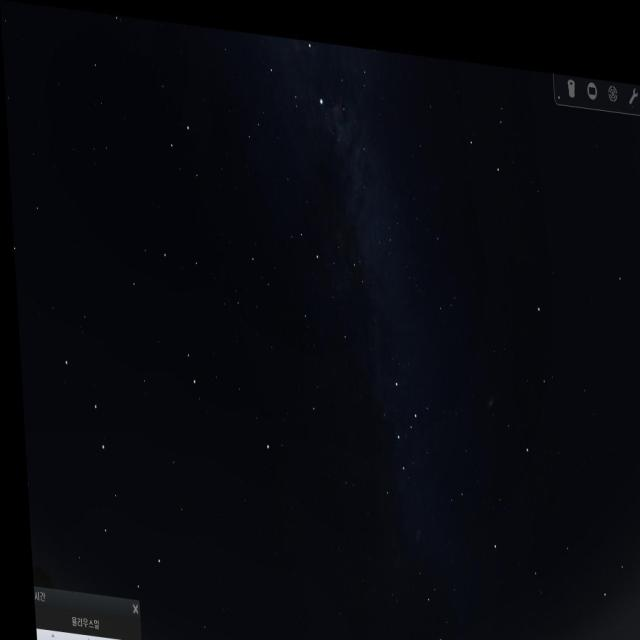cassiopeia: (362, 349, 433, 516)
ursa_major: (59, 355, 166, 601)
